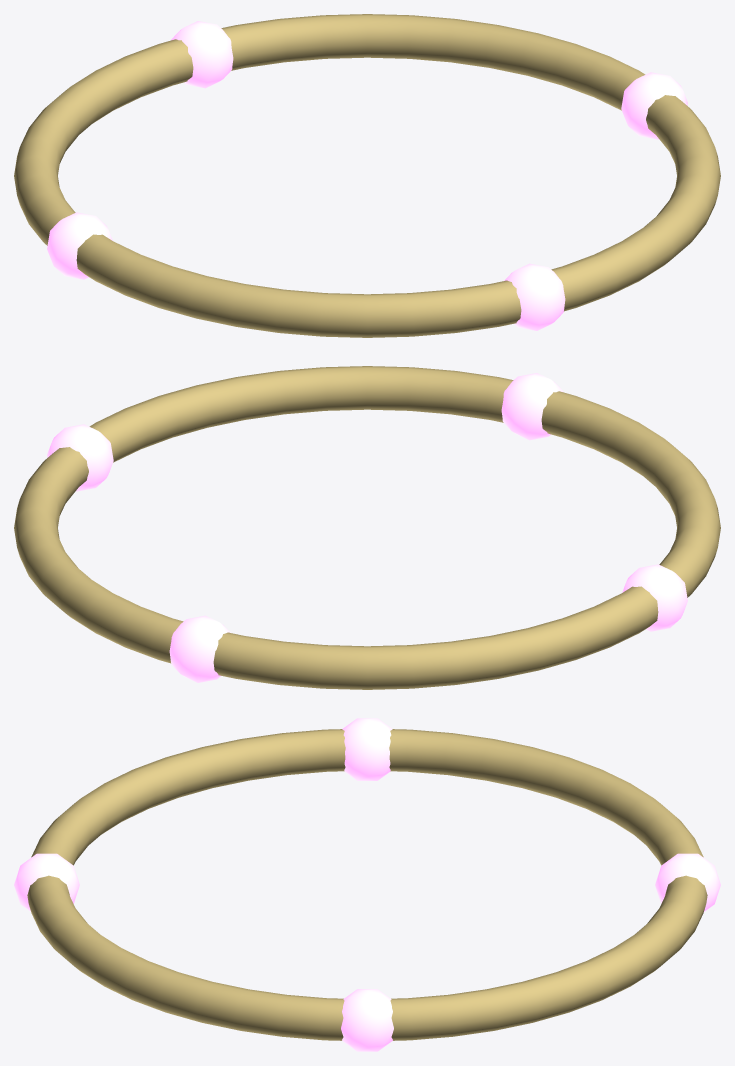
File: prop_aster_arcane_ring.glb
3 renders of one model, top to bottom at view 1: azimuth 30°, elevation 25°; view 2: azimuth 150°, elevation 25°; view 3: azimuth 270°, elevation 25°, orthographic. The views are drawn at different scales.
Visible parts, largest first — view 1: Torus, Icosphere.003, Icosphere.001, Icosphere.002, Icosphere; view 2: Torus, Icosphere.001, Icosphere.003, Icosphere.002, Icosphere; view 3: Torus, Icosphere, Icosphere.002, Icosphere.001, Icosphere.003.
Part boxes in pixels (left/top/right/bottom): Torus: left=14, top=14, right=720, bottom=337; Icosphere.003: left=504, top=263, right=565, bottom=330; Icosphere.001: left=171, top=21, right=233, bottom=88; Icosphere.002: left=47, top=212, right=112, bottom=279; Icosphere: left=621, top=72, right=687, bottom=139; Torus: left=14, top=366, right=720, bottom=689; Icosphere.001: left=169, top=615, right=230, bottom=682; Icosphere.003: left=501, top=373, right=563, bottom=440; Icosphere.002: left=622, top=564, right=687, bottom=631; Icosphere: left=47, top=424, right=113, bottom=491; Torus: left=27, top=729, right=707, bottom=1040; Icosphere: left=341, top=989, right=393, bottom=1051; Icosphere.002: left=342, top=718, right=392, bottom=780; Icosphere.001: left=655, top=853, right=720, bottom=911; Icosphere.003: left=14, top=853, right=79, bottom=911.
Size of the model in its own units: 14.93 by 1.4 by 15.
